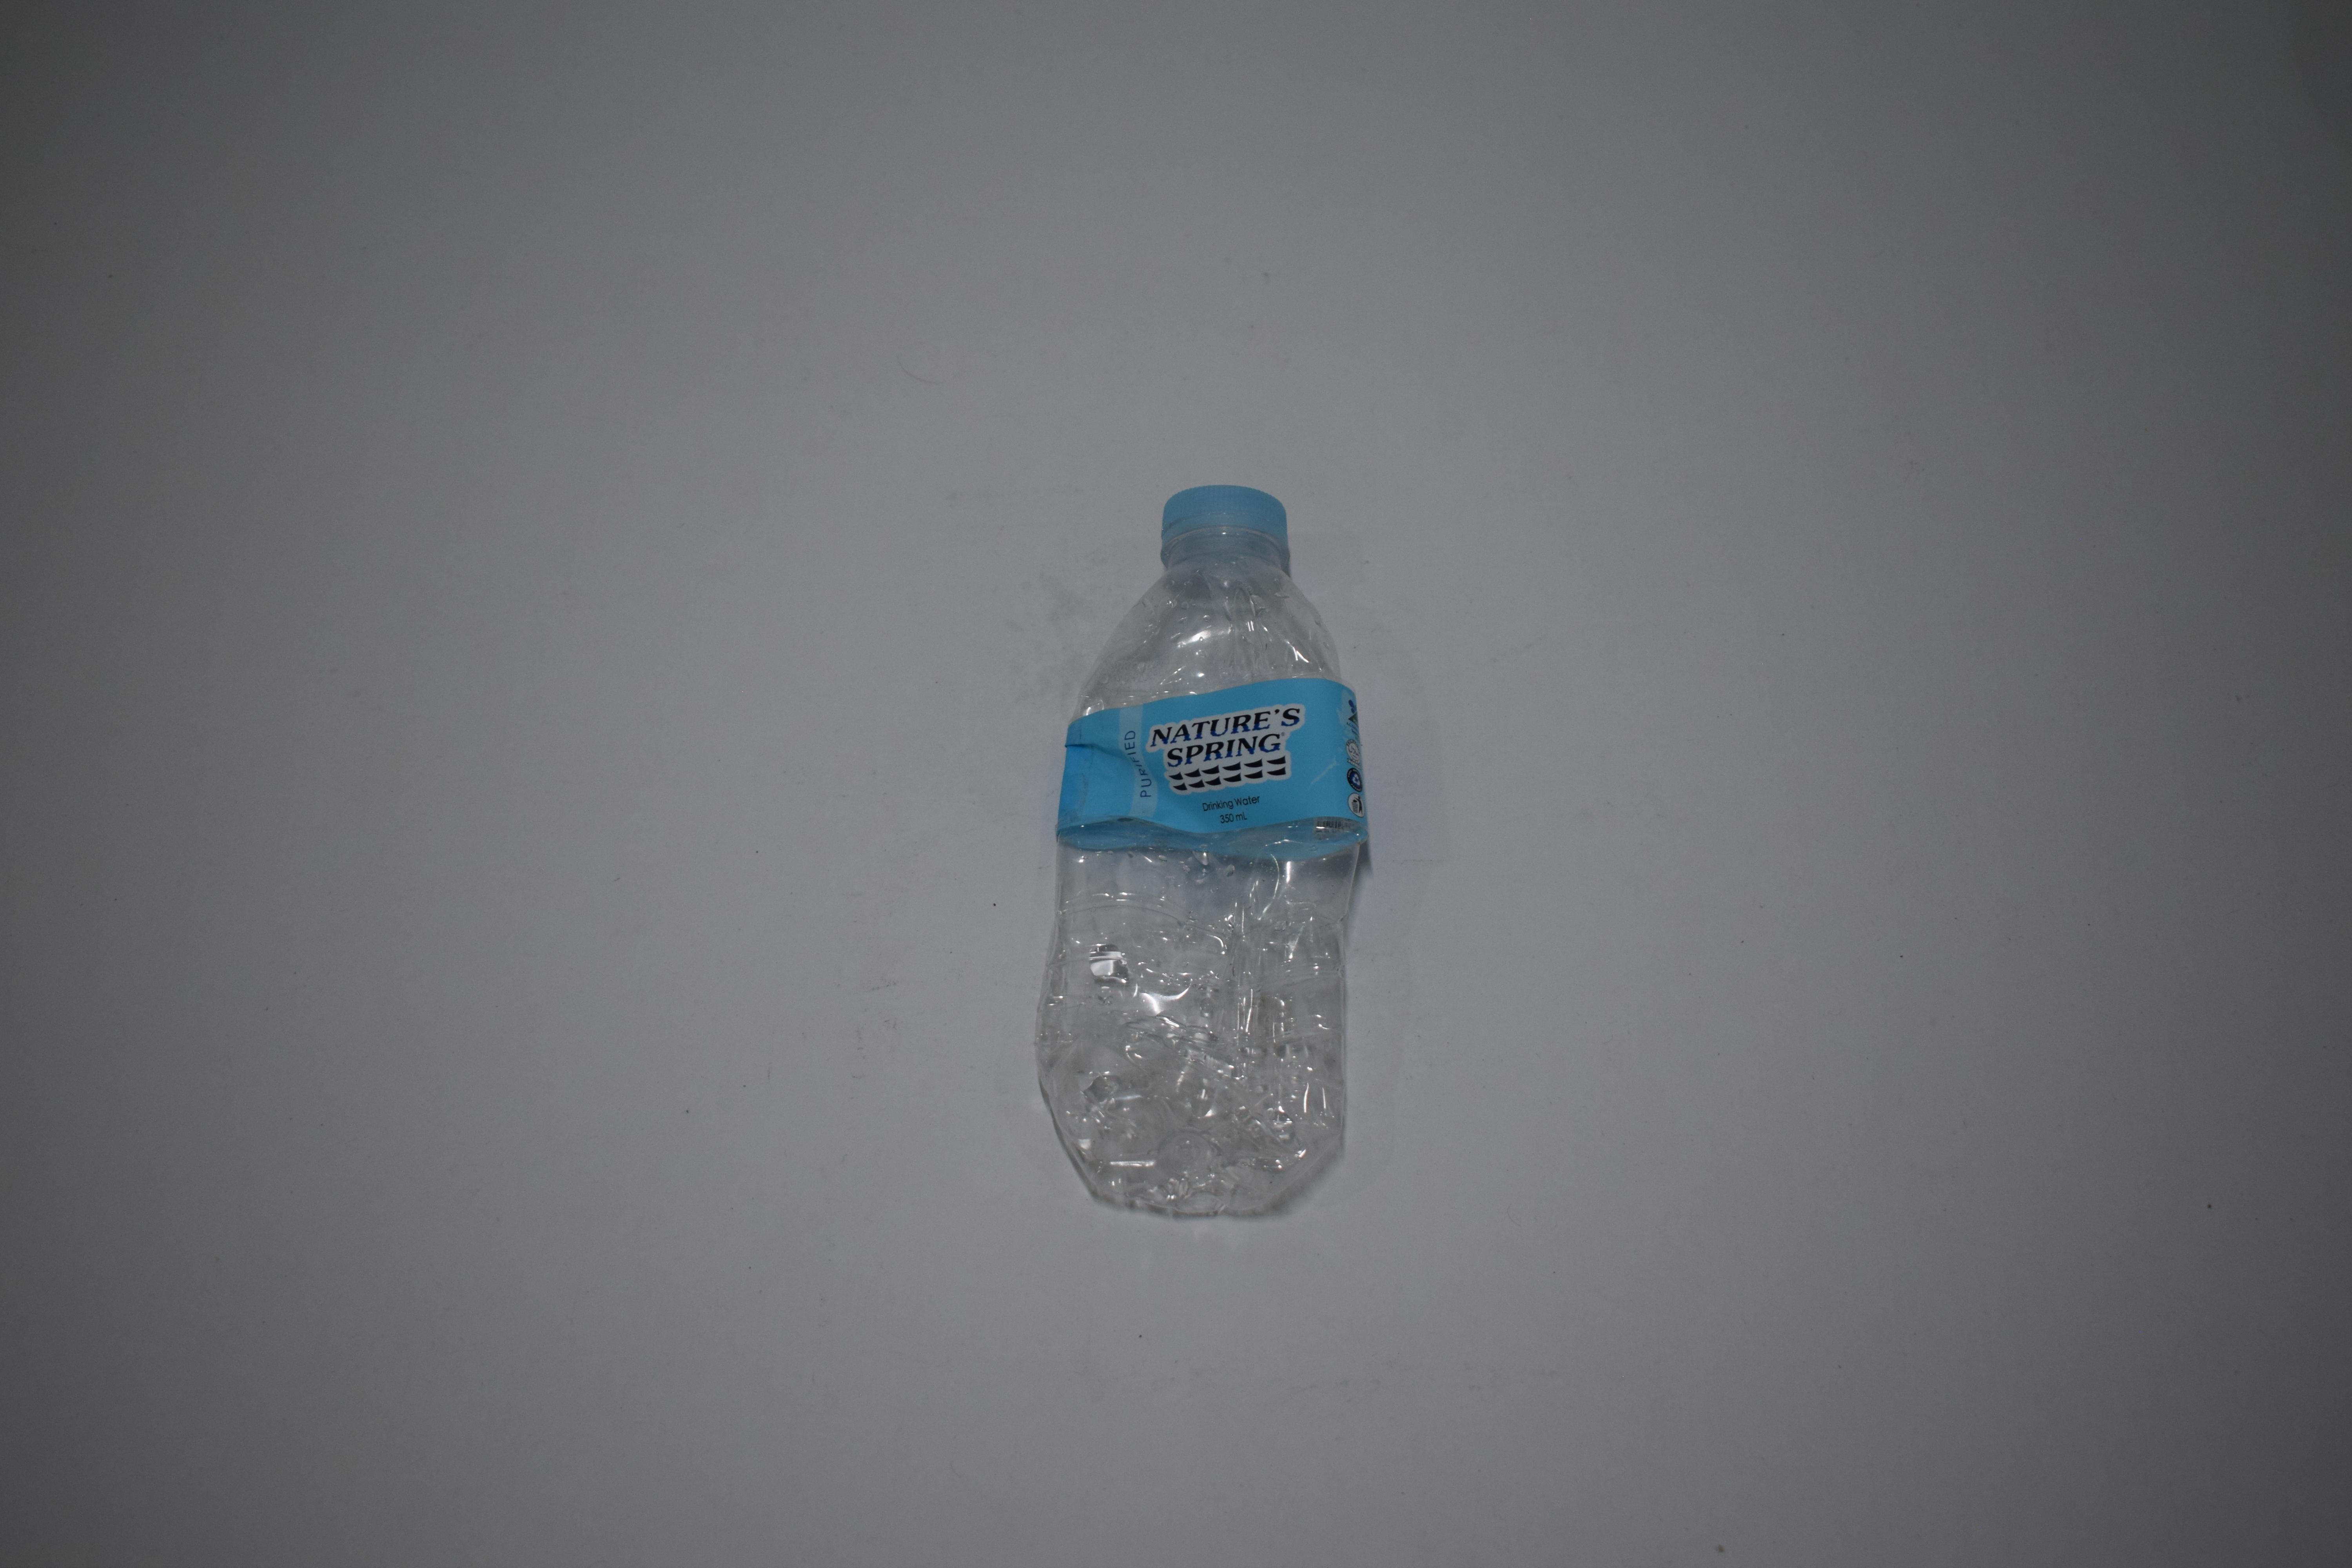bottle: (0, 0, 199, 443)
